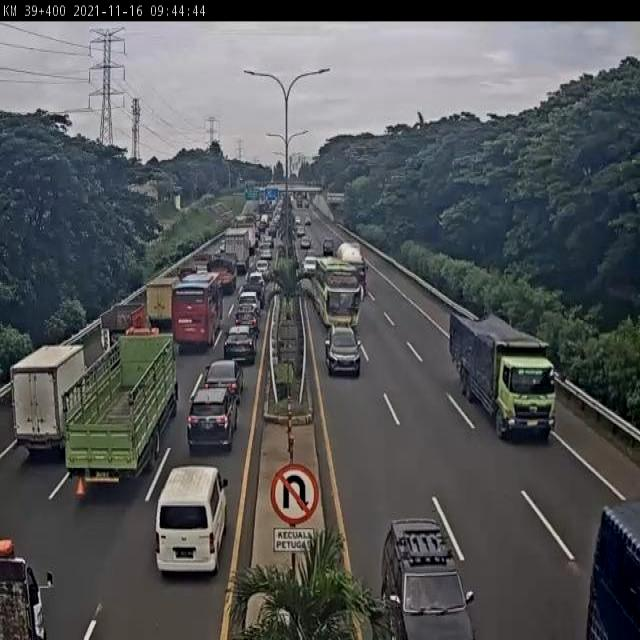Bus: (172, 271, 222, 349), (314, 257, 360, 324)
Car: (380, 518, 474, 638), (185, 384, 242, 451), (323, 322, 363, 377), (223, 322, 259, 364), (202, 358, 244, 392), (236, 292, 262, 321), (255, 260, 269, 278), (303, 258, 317, 276), (259, 245, 273, 261), (322, 238, 334, 256), (263, 234, 273, 249), (300, 237, 310, 249), (296, 226, 306, 238), (268, 226, 276, 237), (305, 217, 311, 226), (295, 217, 301, 226)
Truck: (65, 332, 176, 475), (448, 309, 554, 442), (15, 343, 85, 457), (0, 544, 50, 638)
Van: (154, 466, 228, 573)
